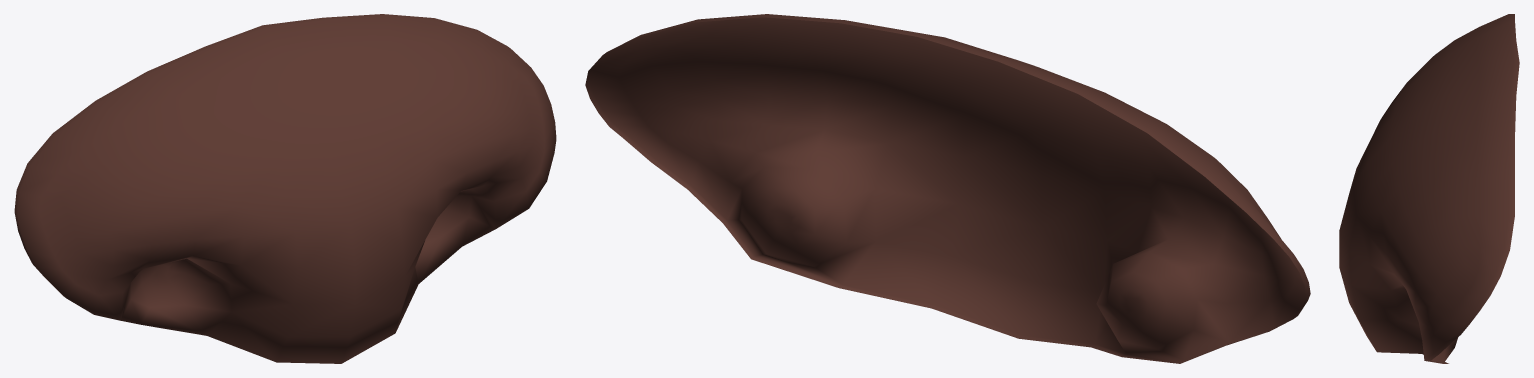
Rendered from nose02.glb.
The picture shows the model from 3 angles, left to right: view 1: azimuth 30°, elevation 25°; view 2: azimuth 150°, elevation 25°; view 3: azimuth 270°, elevation 25°; orthographic projection. The views are drawn at different scales.
Visible parts, largest first — view 1: Nase; view 2: Nase; view 3: Nase.
Part boxes in pixels (x1,y1,x2,y2): Nase: (14,14,556,363); Nase: (585,14,1310,363); Nase: (1339,14,1519,363).
Size of the model in its own units: 0.1284 by 0.0651 by 0.039.
